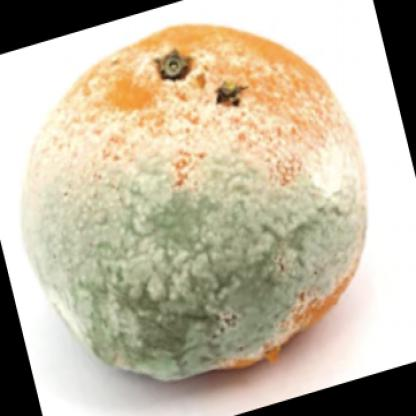rotten_orange: (17, 20, 372, 381)
